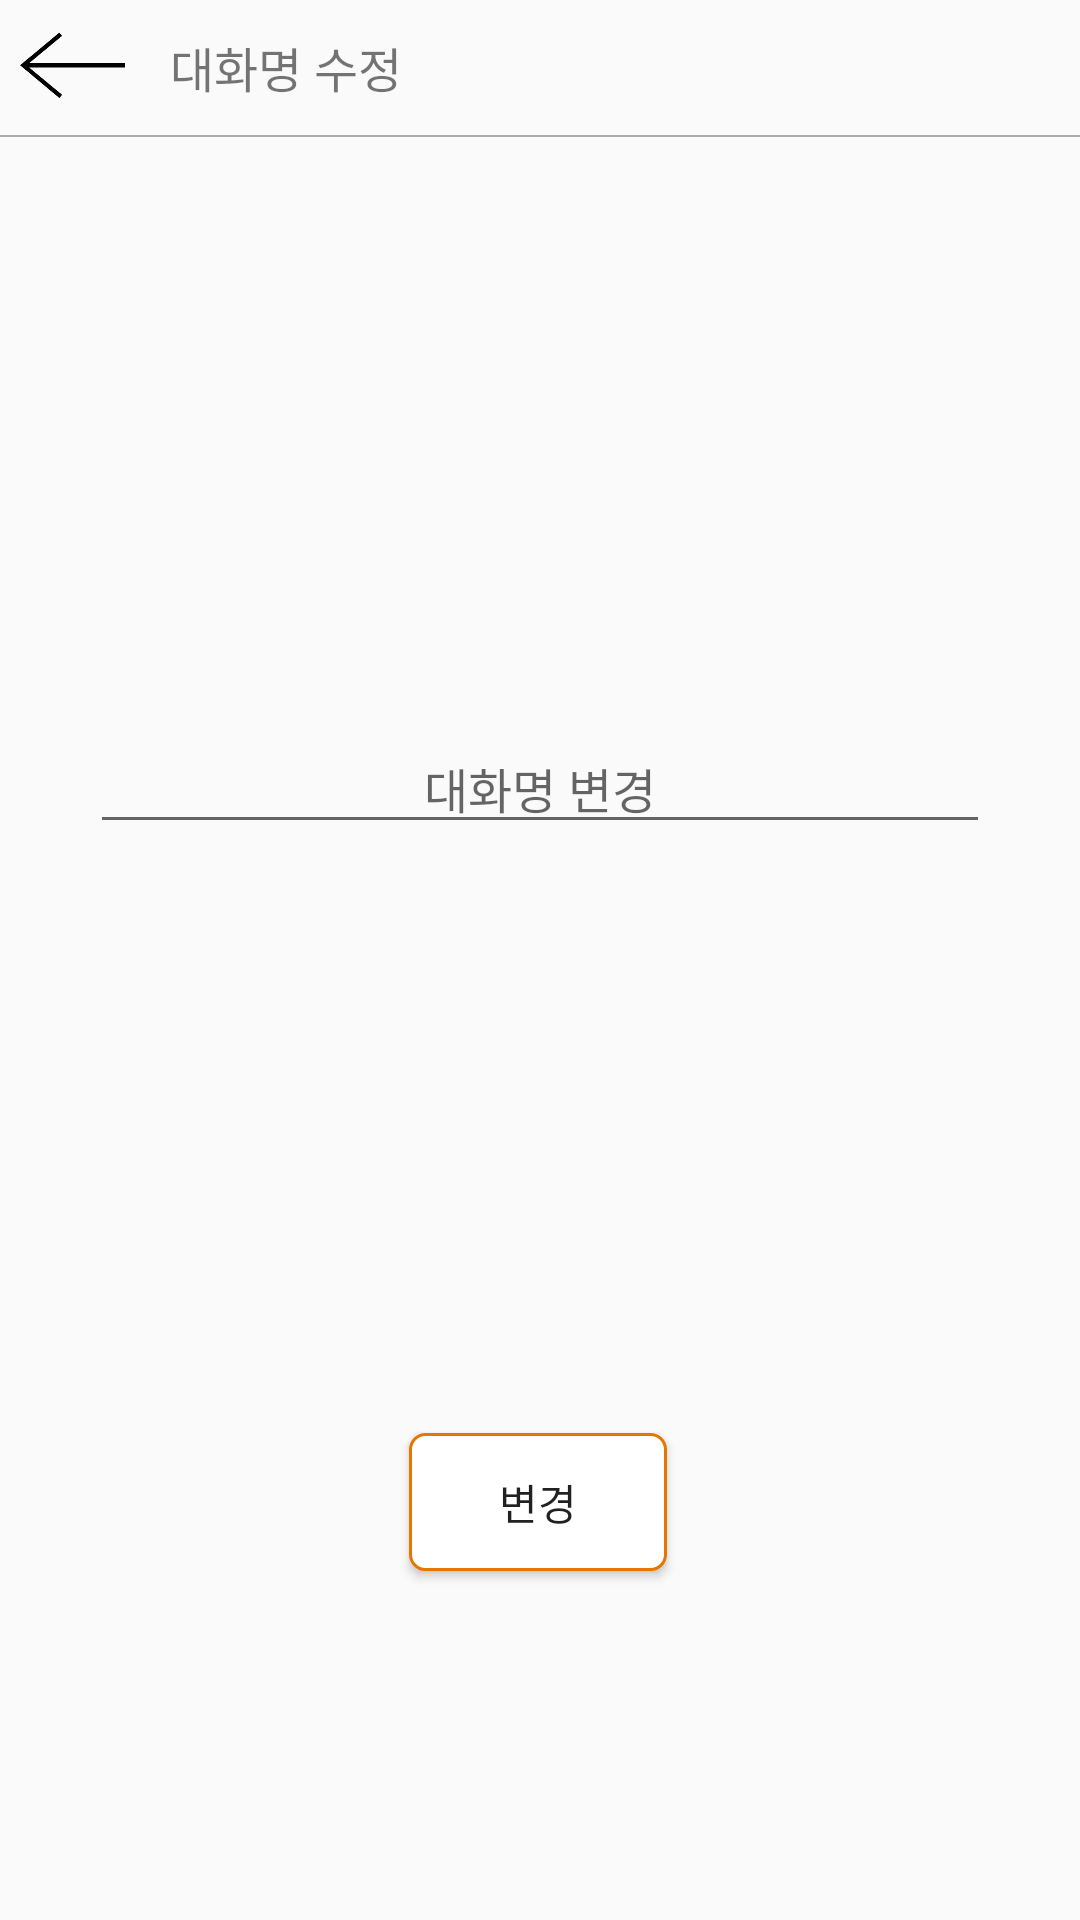

Screen size 1080 x 1920. Icon name, then its center in pixels as [x,y]:
back: [72,65]
